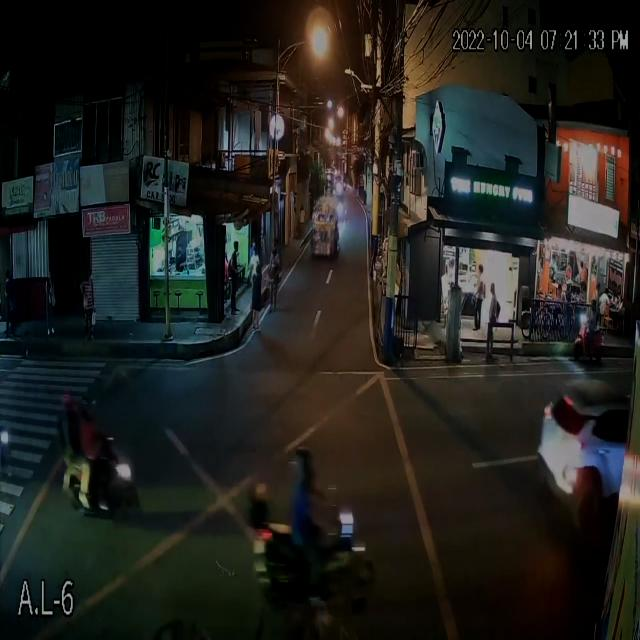Full-Faced: (294, 441, 318, 489), (81, 394, 98, 418), (62, 390, 77, 413)
